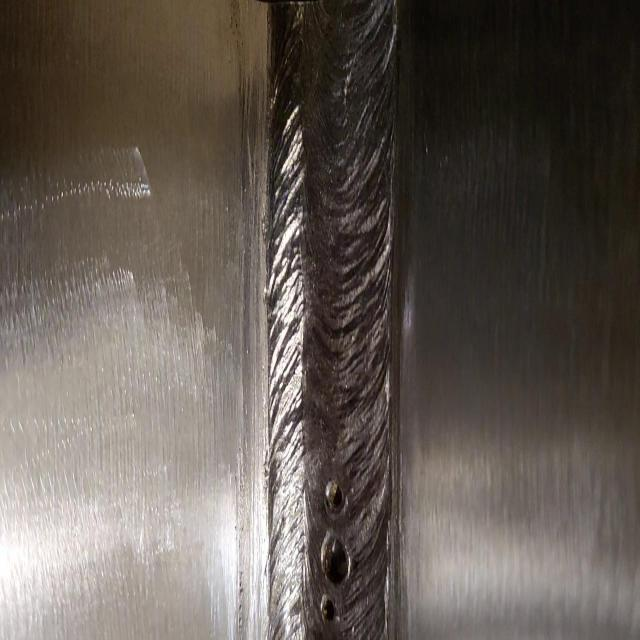Welding Line: (272, 6, 398, 640)
porosity: (320, 473, 350, 627)
